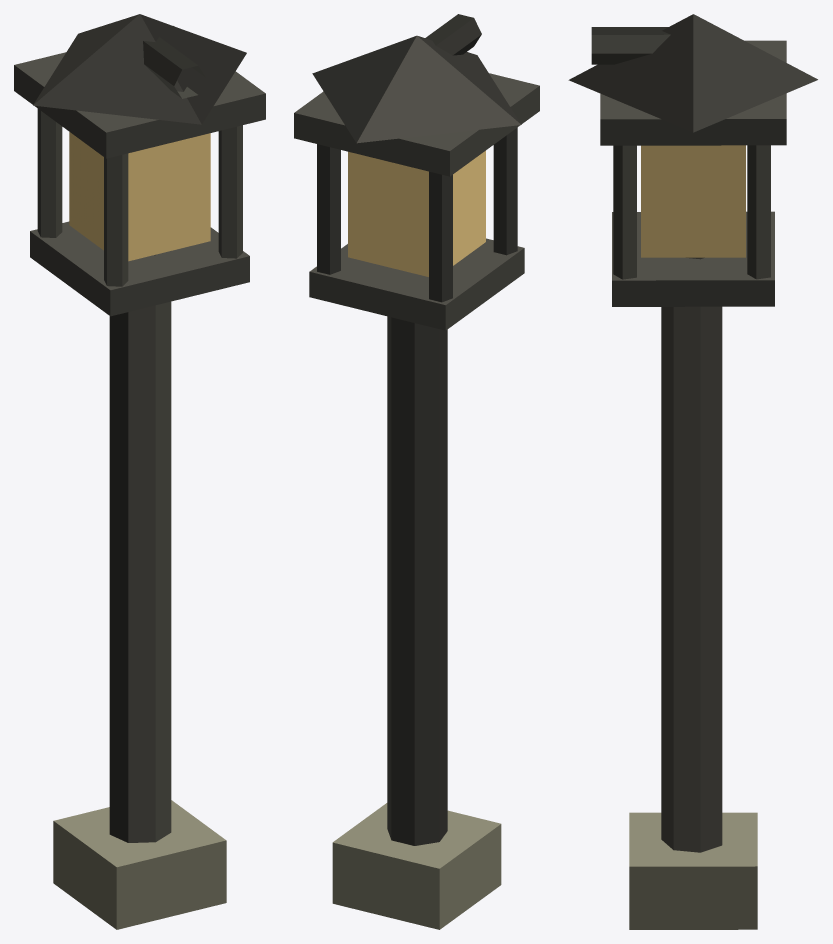
3 views of the same model, side by side, from view 1: azimuth 30°, elevation 25°; view 2: azimuth 150°, elevation 25°; view 3: azimuth 270°, elevation 25° (orthographic). The views are drawn at different scales.
Parts seen in each view (by area): view 1: c1331d016b3f0b26256898d002f314713156ef10d555c4d6d87219e5fd85; view 2: c1331d016b3f0b26256898d002f314713156ef10d555c4d6d87219e5fd85; view 3: c1331d016b3f0b26256898d002f314713156ef10d555c4d6d87219e5fd85.
Part boxes in pixels (box(x1,y1,x2,y2)): c1331d016b3f0b26256898d002f314713156ef10d555c4d6d87219e5fd85: box(14, 14, 265, 929); c1331d016b3f0b26256898d002f314713156ef10d555c4d6d87219e5fd85: box(294, 14, 539, 929); c1331d016b3f0b26256898d002f314713156ef10d555c4d6d87219e5fd85: box(568, 14, 817, 929).
Size of the model in its own units: 0.86 by 3.37 by 0.86.
Materials: 2 (1 with a texture image).
